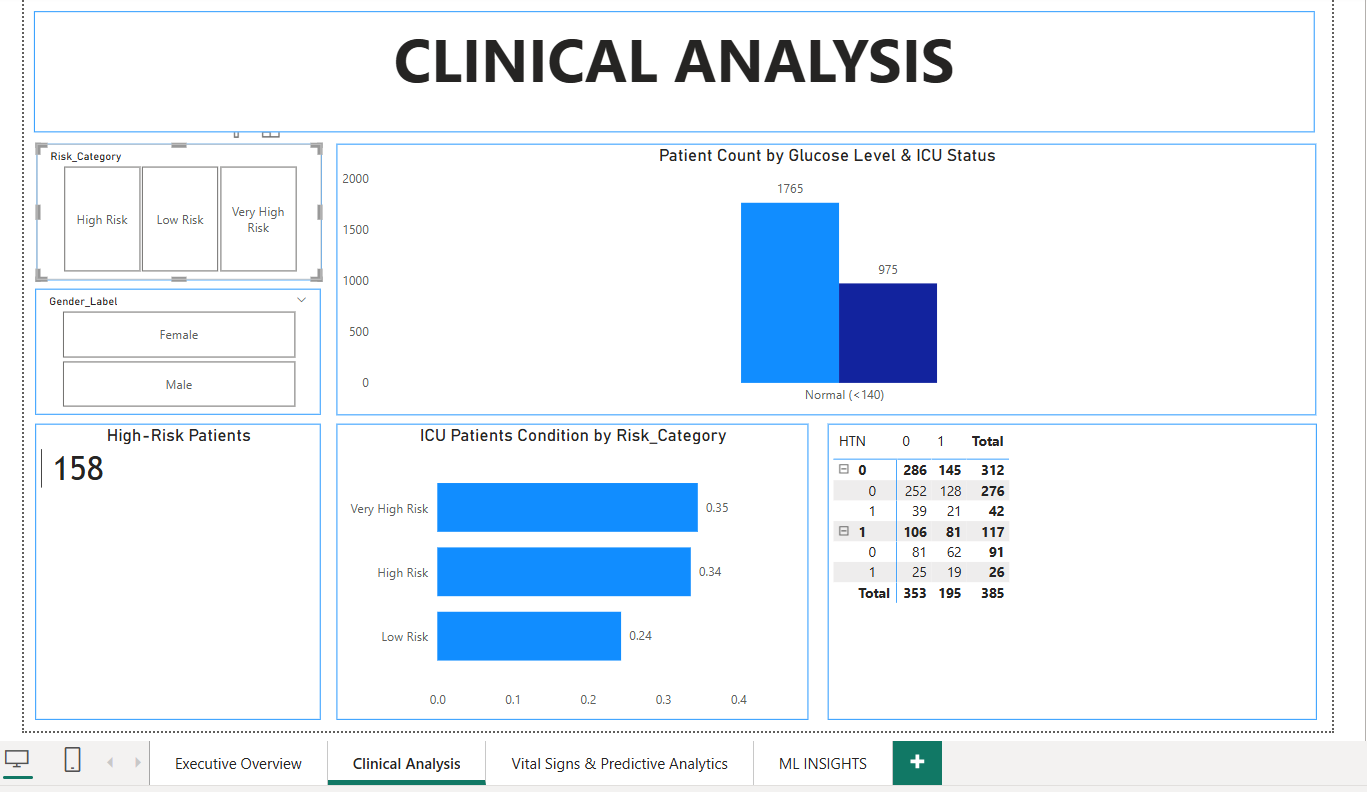

The dashboard page shown, as its layout file describes it:
{"tool":"powerbi","page":{"name":"Clinical Analysis","canvas":[1280,720],"ordinal":1},"visuals":[{"type":"slicer","fields":{"Values":["Medical_Conditions.Risk_Category"]},"box":[12.2,145.5,278.8,133.3],"z":0},{"type":"slicer","fields":{"Values":["Demographics.Gender_Label"]},"box":[11,287.4,278.8,123.5],"z":1000},{"type":"multiRowCard","title":"High-Risk Patients","fields":{"Values":["Measures_Table_2.High_Risk_Conditions"]},"box":[11,419.8,279.4,289.9],"z":2000},{"type":"clusteredBarChart","title":"ICU Patients Condition by Risk_Category","fields":{"Category":["Medical_Conditions.Risk_Category"],"Y":["Measures_Table_2.ICU_Rate_by_Condition"]},"box":[305.6,419.8,461.7,289.9],"z":4000},{"type":"pivotTable","title":"ICU Patients Condition by Risk_Category","fields":{"Rows":["Medical_Conditions.HTN","Medical_Conditions.IMMUNOCOMPROMISED"],"Columns":["Outcome.ICU"],"Values":["Measure Table_1.Total_Patients"]},"box":[785.7,419.8,478.8,289.9],"z":5000},{"type":"clusteredColumnChart","title":"Patient Count by Glucose Level & ICU Status","fields":{"Category":["Lab_Results.Glucose_Category"],"Y":["Measures_Table_2.Count of Patient"],"Series":["Outcome.ICU"]},"box":[305.7,145.5,958.7,265.4],"z":6000},{"type":"textbox","box":[9.2,15.7,1252.7,118.1],"z":8000}]}

Visuals, with their boxes on the page's 1280x720 design canvas (x1, y1, x2, y2). These are canvas units, not pixel positions in the 1367x792 screenshot, which may show the page scaled, cropped or inside an application window:
slicer - Medical_Conditions.Risk_Category: pyautogui.locateOnScreen(12, 146, 291, 279)
slicer - Demographics.Gender_Label: pyautogui.locateOnScreen(11, 287, 290, 411)
"High-Risk Patients" multiRowCard: pyautogui.locateOnScreen(11, 420, 290, 710)
"ICU Patients Condition by Risk_Category" clusteredBarChart: pyautogui.locateOnScreen(306, 420, 767, 710)
"ICU Patients Condition by Risk_Category" pivotTable: pyautogui.locateOnScreen(786, 420, 1264, 710)
"Patient Count by Glucose Level & ICU Status" clusteredColumnChart: pyautogui.locateOnScreen(306, 146, 1264, 411)
textbox: pyautogui.locateOnScreen(9, 16, 1262, 134)
